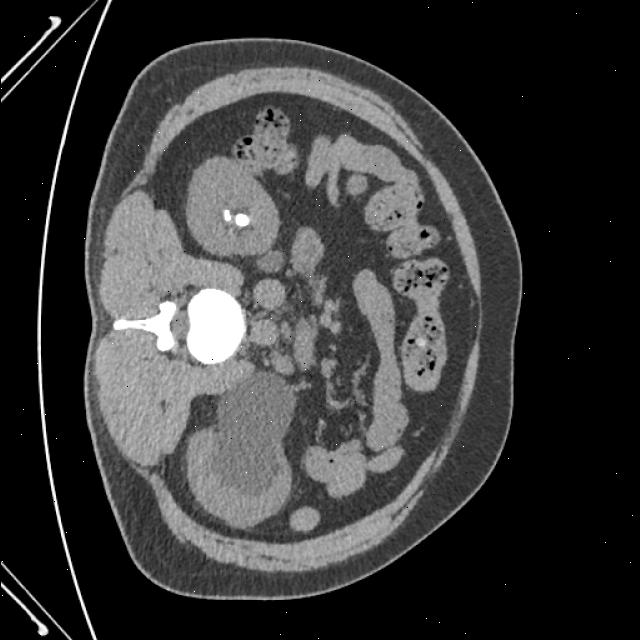kidneystone: (234, 214, 249, 228), (222, 209, 234, 222)
